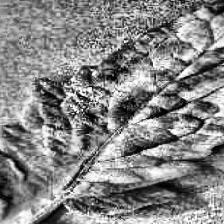leaf mold: (7, 0, 224, 212)
